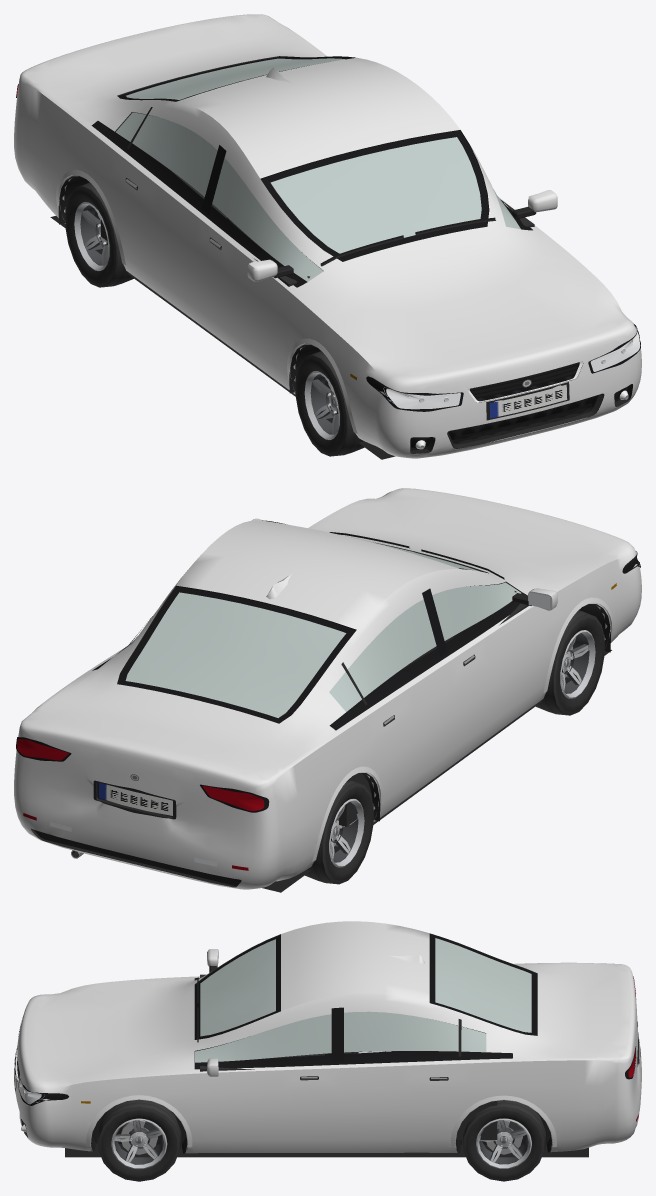
The model's file is TrafficSedanA_complete_unity.fbx.
3 views of the same model, one above another, from view 1: azimuth 30°, elevation 25°; view 2: azimuth 150°, elevation 25°; view 3: azimuth 270°, elevation 25° (orthographic). The views are drawn at different scales.
Visible parts, largest first — view 1: Body_LOD0, Glass_LOD0, Trim_LOD0, Wheel_FR_LOD0, Wheel_RR_LOD0, Lights_LOD0; view 2: Body_LOD0, Glass_LOD0, Trim_LOD0, Wheel_FR_LOD0, Wheel_RR_LOD0, Lights_LOD0, Interior_LOD0; view 3: Body_LOD0, Glass_LOD0, Trim_LOD0, Wheel_FL_LOD0, Wheel_RL_LOD0, Interior_LOD0, Lights_LOD0.
Boxes of the visible parts, x1,y1,x2,y2 form: Body_LOD0: [14, 14, 641, 458]; Glass_LOD0: [116, 58, 520, 281]; Trim_LOD0: [16, 56, 640, 459]; Wheel_FR_LOD0: [295, 351, 364, 456]; Wheel_RR_LOD0: [65, 182, 133, 287]; Lights_LOD0: [17, 86, 640, 409]; Body_LOD0: [14, 488, 641, 889]; Glass_LOD0: [125, 535, 521, 717]; Trim_LOD0: [16, 520, 640, 892]; Wheel_FR_LOD0: [535, 610, 604, 715]; Wheel_RR_LOD0: [305, 780, 373, 884]; Lights_LOD0: [17, 552, 637, 866]; Interior_LOD0: [338, 591, 528, 826]; Body_LOD0: [14, 921, 641, 1153]; Glass_LOD0: [195, 938, 531, 1062]; Trim_LOD0: [14, 933, 640, 1157]; Wheel_FL_LOD0: [97, 1099, 181, 1181]; Wheel_RL_LOD0: [462, 1100, 545, 1181]; Interior_LOD0: [200, 974, 497, 1140]; Lights_LOD0: [19, 982, 640, 1109].
Size of what is drawn, in the model's own units: 2.06 by 1.47 by 4.65.
